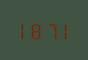eight: (30, 19, 41, 39)
one: (18, 19, 29, 39), (54, 20, 65, 40)
seven: (42, 19, 53, 40)
